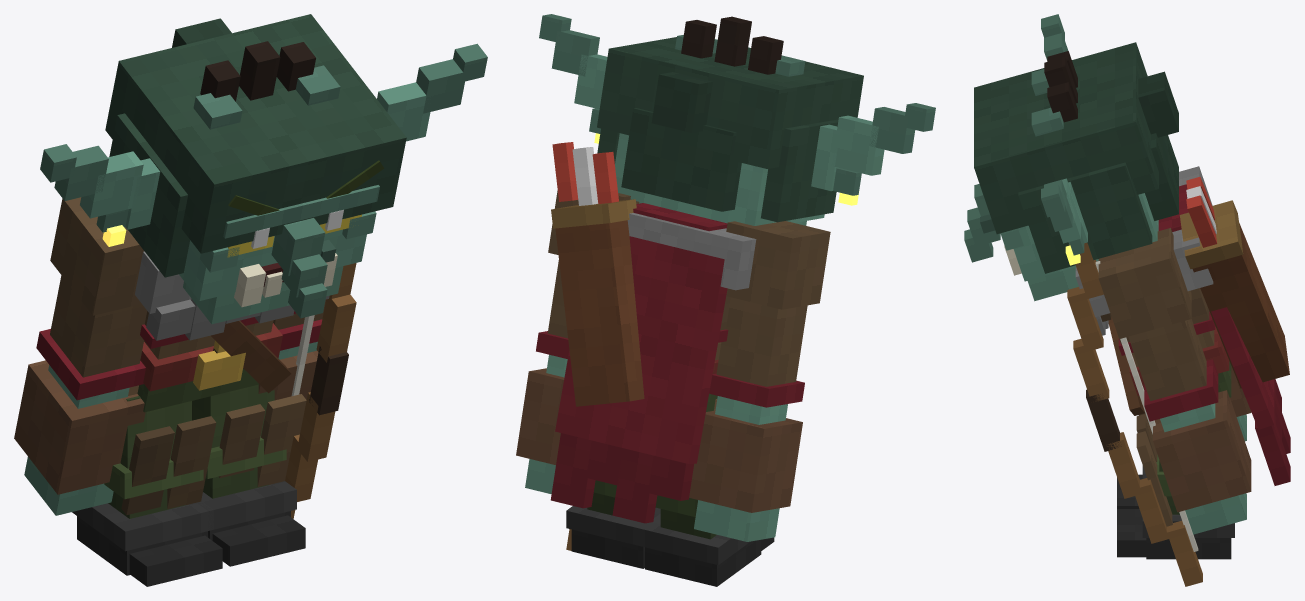
The model's file is goblin_chasseur.glb.
3 renders of one model, left to right at view 1: azimuth 30°, elevation 25°; view 2: azimuth 150°, elevation 25°; view 3: azimuth 270°, elevation 25°, orthographic. The views are drawn at different scales.
Parts seen in each view (by area): view 1: Head, ArmR, Torso, LegR, LegL, HandL, ArmL; view 2: Torso, Head, ArmR, ArmL, LegR, LegL; view 3: Head, ArmL, Torso, HandL, LegL, ArmR.
Part boxes in pixels (x1,y1,x2,y2): Head: (40,14,487,324); ArmR: (14,197,146,515); Torso: (121,251,329,515); LegR: (72,396,222,586); LegL: (192,384,305,566); HandL: (285,263,356,518); ArmL: (258,300,325,400); Torso: (550,142,756,523); Head: (539,14,935,225); ArmR: (689,221,830,541); ArmL: (516,191,639,494); LegR: (640,495,774,586); LegL: (566,480,660,568); Head: (964,14,1178,301); ArmL: (1098,228,1251,534); Torso: (1075,166,1290,526); HandL: (1067,242,1202,586); LegL: (1117,454,1234,559); ArmR: (1230,366,1251,441).
Bounding box in the file's own units: 1.09 × 1.37 × 0.8393.
50 materials, 50 textured.
